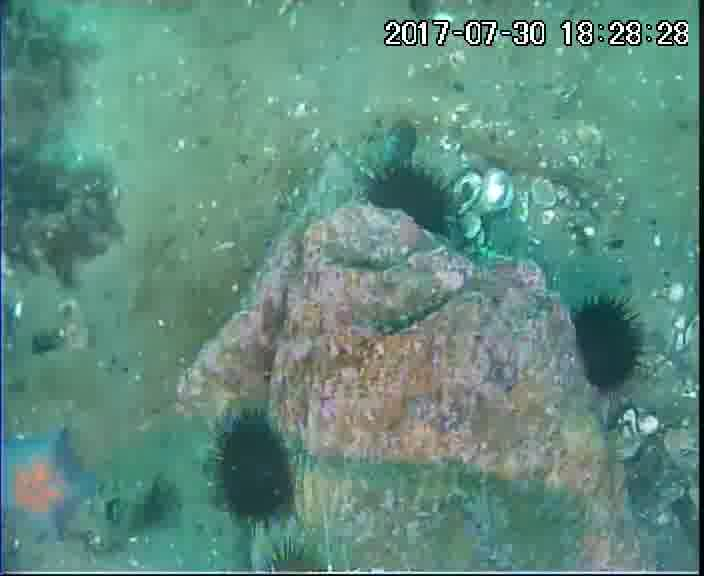echinus: (216, 409, 295, 525), (366, 162, 457, 241), (576, 297, 643, 393)
starfish: (1, 423, 100, 552)
